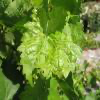grape leaf black rot: (17, 4, 88, 90)
